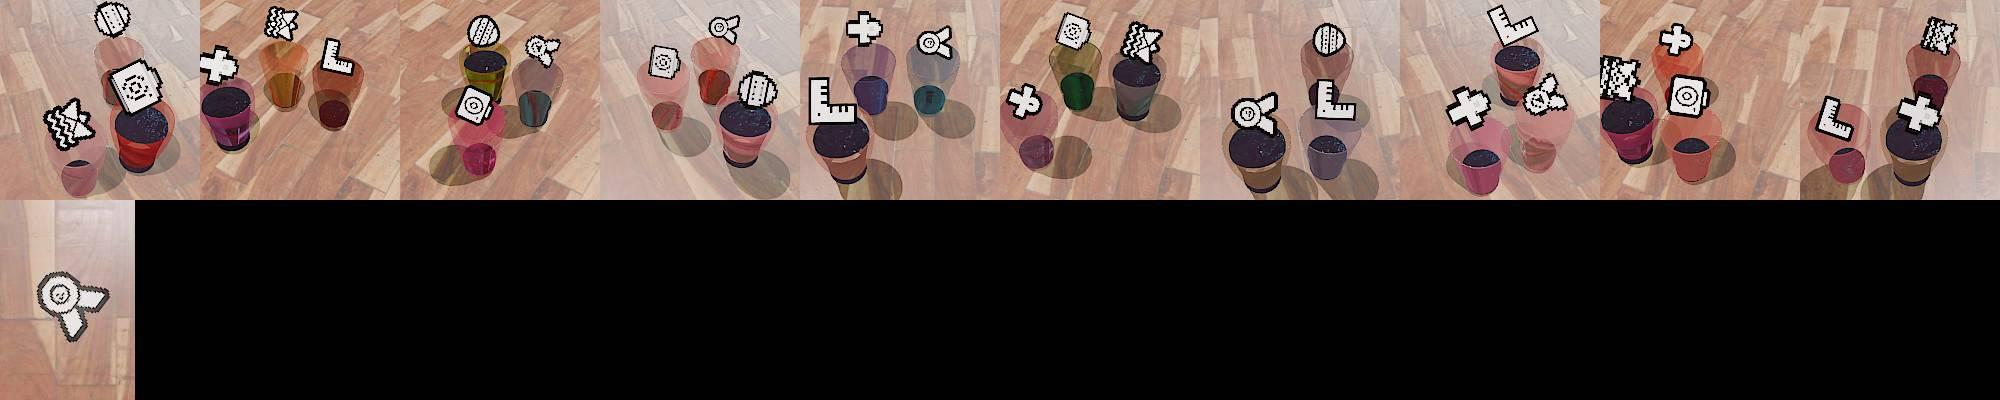icon: (36, 269, 111, 343), (106, 59, 163, 116), (42, 96, 97, 150), (807, 75, 858, 126), (1486, 4, 1540, 48), (1443, 84, 1491, 131), (1522, 70, 1569, 117), (1665, 74, 1710, 121), (1230, 90, 1276, 136), (1599, 54, 1643, 102), (1311, 78, 1357, 122), (1120, 20, 1163, 65), (1816, 94, 1856, 141), (1895, 92, 1941, 131), (737, 68, 779, 110), (1054, 11, 1093, 54), (1921, 15, 1960, 56), (454, 85, 495, 125), (198, 45, 239, 84), (844, 10, 884, 48), (916, 24, 955, 61), (93, 1, 131, 38), (524, 33, 562, 69), (264, 6, 300, 42), (1006, 83, 1042, 118), (321, 37, 355, 75), (1312, 22, 1347, 57), (467, 14, 501, 48), (1659, 23, 1694, 57), (648, 45, 681, 80), (708, 14, 741, 45)
